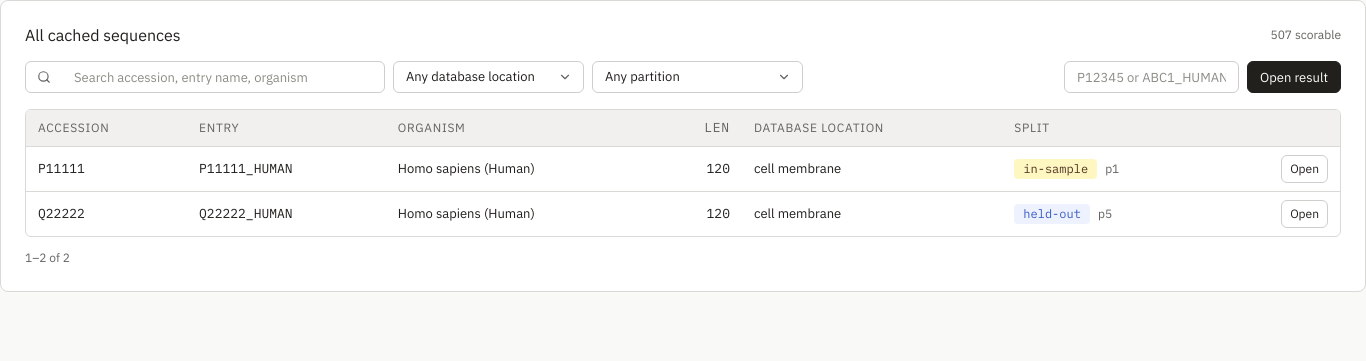
CatalogBrowser › explains an accession that is not cached, by its code
In the field named "Accession or entry name": (1152, 77) [1064,61,1239,93], type "P99999"
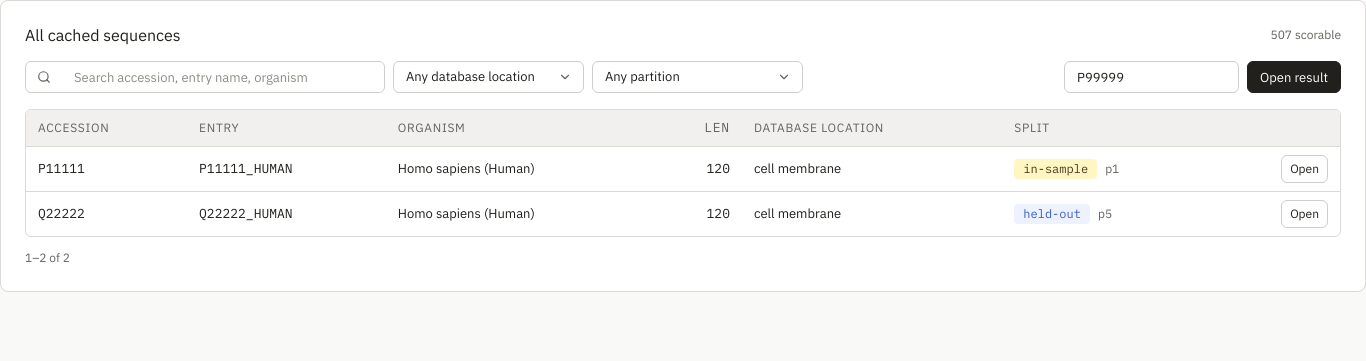
Click the button "Open result": (1294, 77) [1247,61,1341,93]
Wait 300 ms
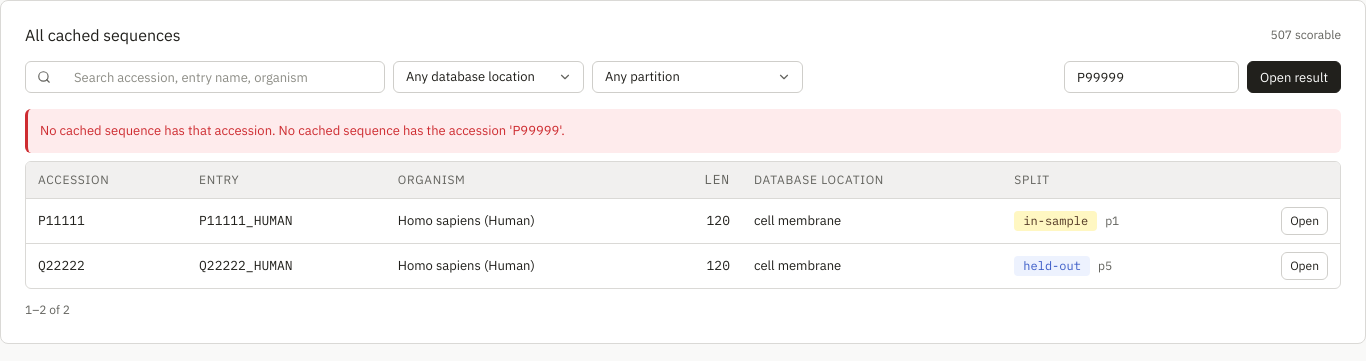
Expected: the message shows "No cached sequence has that accession", [40,122,565,139]
